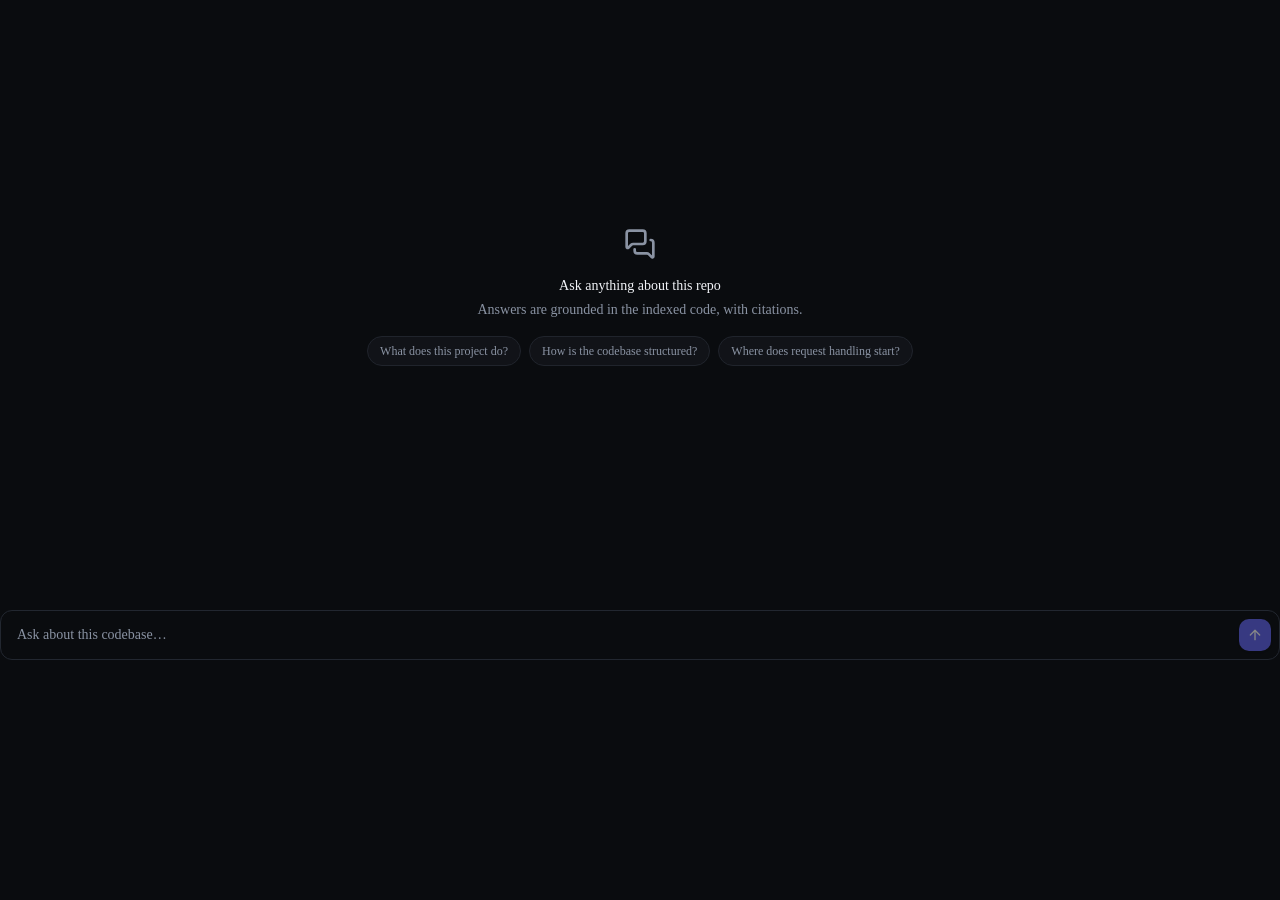
Test: ChatPanel › re-mints the session and retries once on a 401
This screenshot has width=1280, height=900.
Step 1. Type "hi" into the text box named "ask a question" → x=620, y=635, box [9, 619, 1231, 651]
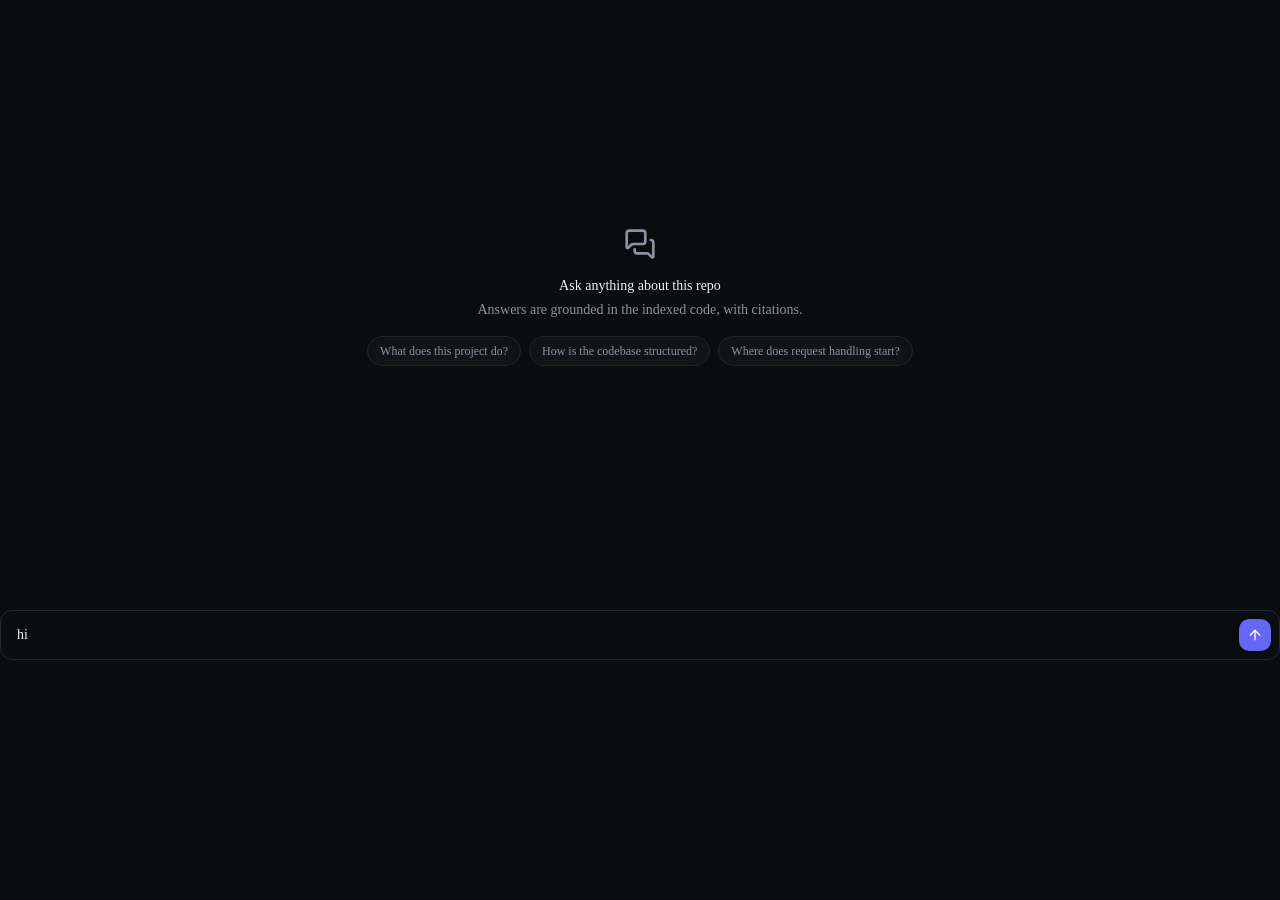
Step 2. Press Enter in the text box named "ask a question", box [9, 619, 1231, 651]
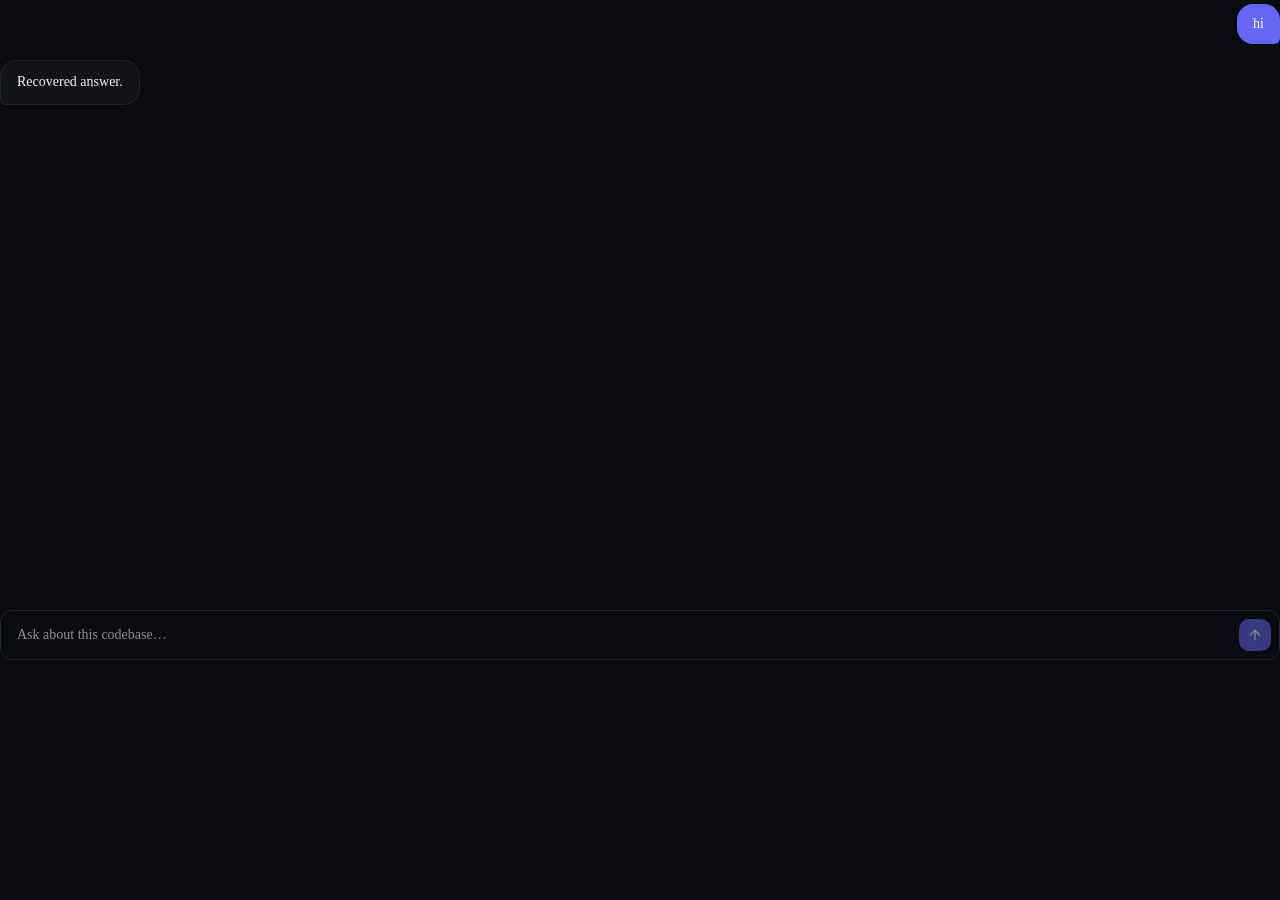
Expected: the text "Recovered answer." is shown, [17, 71, 123, 94]
